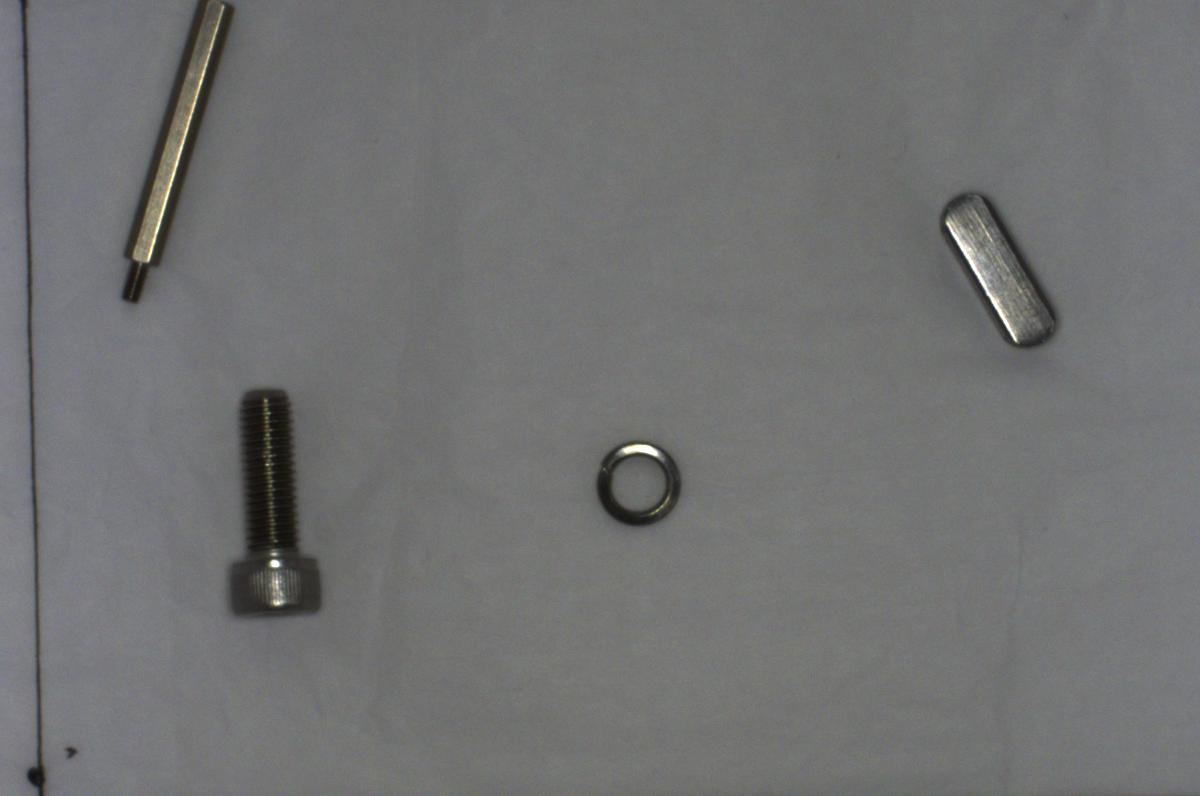Hexagon screw: (217, 379, 332, 629)
Hexagonal steel column: (112, 3, 240, 320)
Keybar: (930, 180, 1071, 353)
Spring washer: (585, 433, 691, 526)
